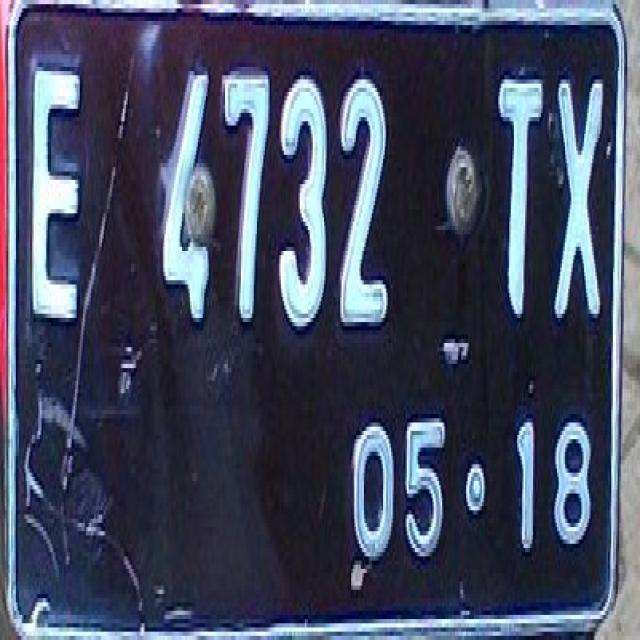plate: (3, 0, 619, 632)
